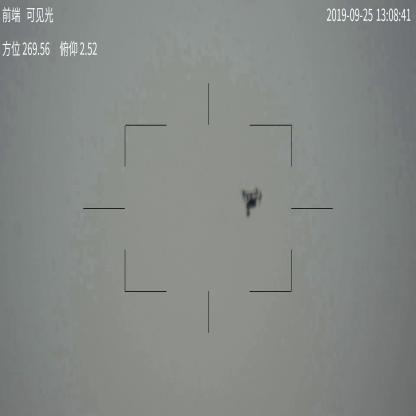uav: (240, 186, 262, 218)
